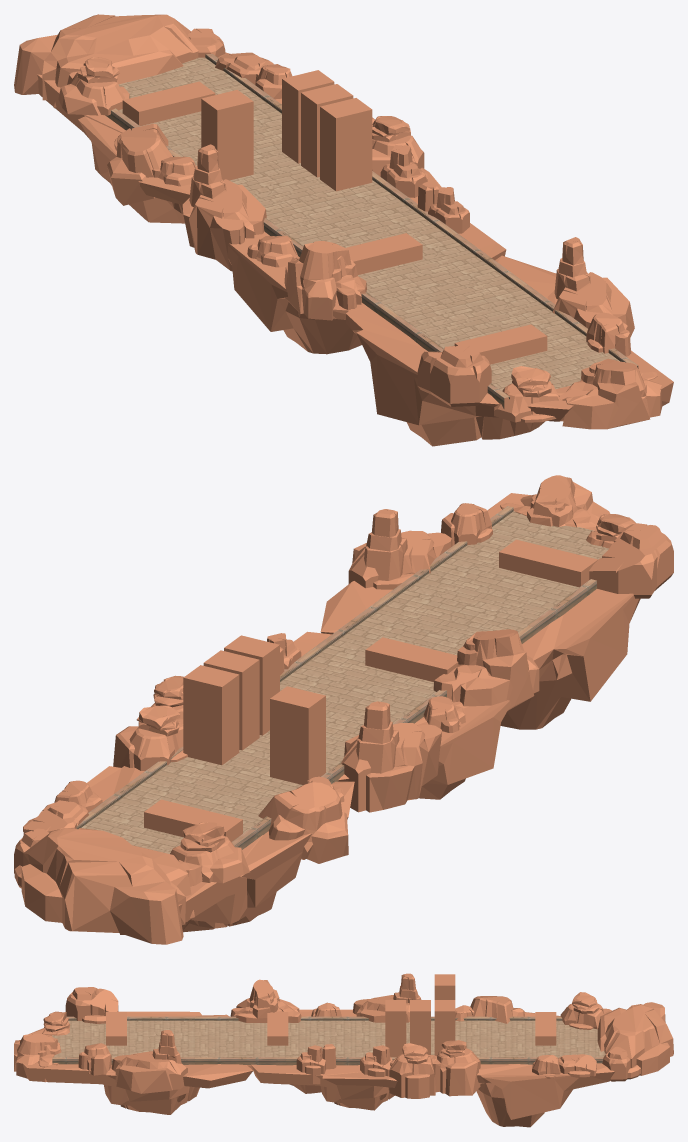
File: road_5_block_A.fbx
The picture shows the model from 3 angles, top to bottom: view 1: azimuth 30°, elevation 25°; view 2: azimuth 150°, elevation 25°; view 3: azimuth 270°, elevation 25°; orthographic projection. The views are drawn at different scales.
Parts seen in each view (by area): view 1: road_5_block_A_standie, road_5_block_A, run_obstacle_dummy_4, run_obstacle_dummy_1, lane_jump_obstacle_dummy_1, run_obstacle_dummy_3, lane_jump_obstacle_dummy_3, run_obstacle_dummy_2, lane_jump_obstacle_dummy_2; view 2: road_5_block_A_standie, road_5_block_A, run_obstacle_dummy_2, run_obstacle_dummy_1, lane_jump_obstacle_dummy_3, lane_jump_obstacle_dummy_2, run_obstacle_dummy_3, lane_jump_obstacle_dummy_1, run_obstacle_dummy_4; view 3: road_5_block_A_standie, road_5_block_A, run_obstacle_dummy_4, run_obstacle_dummy_2, run_obstacle_dummy_3, lane_jump_obstacle_dummy_1, lane_jump_obstacle_dummy_2, lane_jump_obstacle_dummy_3, run_obstacle_dummy_1.
Part boxes in pixels (x1,y1,x2,y2): road_5_block_A_standie: (14,14,673,446); road_5_block_A: (105,54,638,408); run_obstacle_dummy_4: (320,98,372,191); run_obstacle_dummy_1: (201,89,253,180); lane_jump_obstacle_dummy_1: (122,81,215,125); run_obstacle_dummy_3: (301,84,353,177); lane_jump_obstacle_dummy_3: (454,324,547,364); run_obstacle_dummy_2: (282,70,334,163); lane_jump_obstacle_dummy_2: (345,233,422,274); road_5_block_A_standie: (14,475,673,944); road_5_block_A: (76,506,608,853); run_obstacle_dummy_2: (183,665,239,765); run_obstacle_dummy_1: (270,686,325,784); lane_jump_obstacle_dummy_3: (499,539,597,587); lane_jump_obstacle_dummy_2: (365,637,458,681); run_obstacle_dummy_3: (203,650,259,750); lane_jump_obstacle_dummy_1: (144,799,242,841); run_obstacle_dummy_4: (224,635,279,735); road_5_block_A_standie: (14,973,673,1127); road_5_block_A: (52,1016,605,1065); run_obstacle_dummy_4: (385,1000,406,1057); run_obstacle_dummy_2: (434,1000,455,1056); run_obstacle_dummy_3: (410,1000,430,1054); lane_jump_obstacle_dummy_1: (535,1012,556,1045); lane_jump_obstacle_dummy_2: (267,1012,288,1045); lane_jump_obstacle_dummy_3: (106,1012,126,1045); run_obstacle_dummy_1: (434,974,455,999).
Size of the model in its own units: 1791 by 1202 by 6339.
